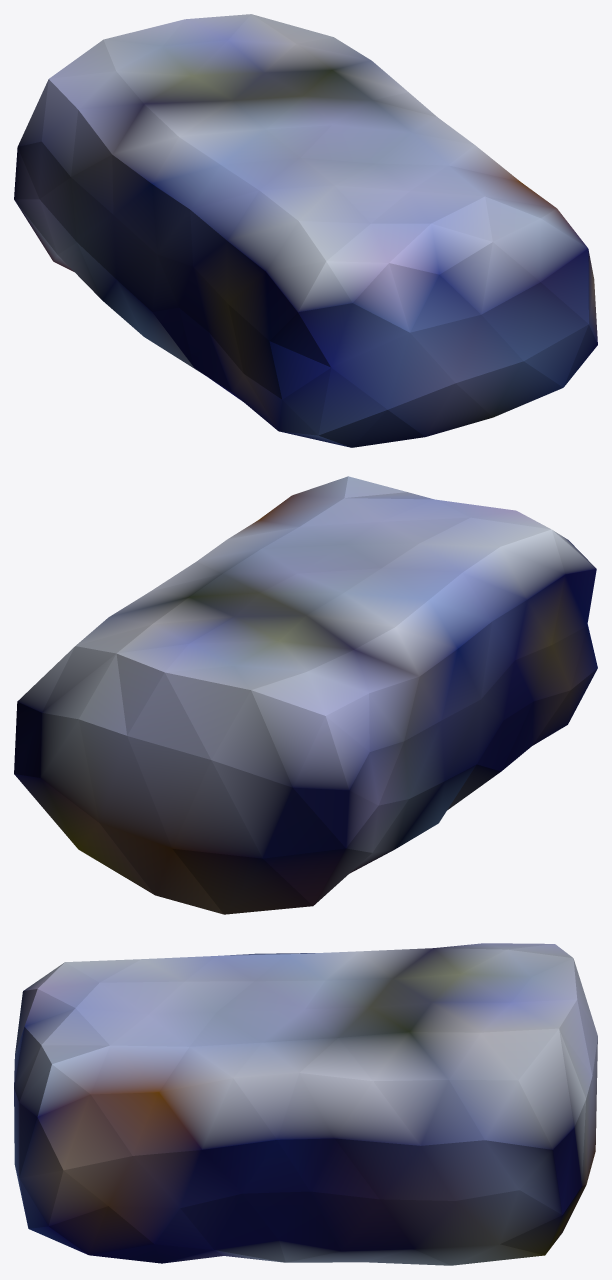
Rendered from sugar-box.dae.
3 views of the same model, one above another, from view 1: azimuth 30°, elevation 25°; view 2: azimuth 150°, elevation 25°; view 3: azimuth 270°, elevation 25° (orthographic). The views are drawn at different scales.
Visible parts, largest first — view 1: node; view 2: node; view 3: node.
Boxes of the visible parts, x1=… form: node: x1=14, y1=14, x2=597, y2=447; node: x1=14, y1=476, x2=597, y2=914; node: x1=14, y1=943, x2=597, y2=1265.
Bounding box in the file's own units: 0.0959 × 0.0631 × 0.1473.
